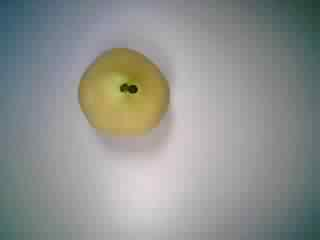pear: (68, 43, 177, 145)
